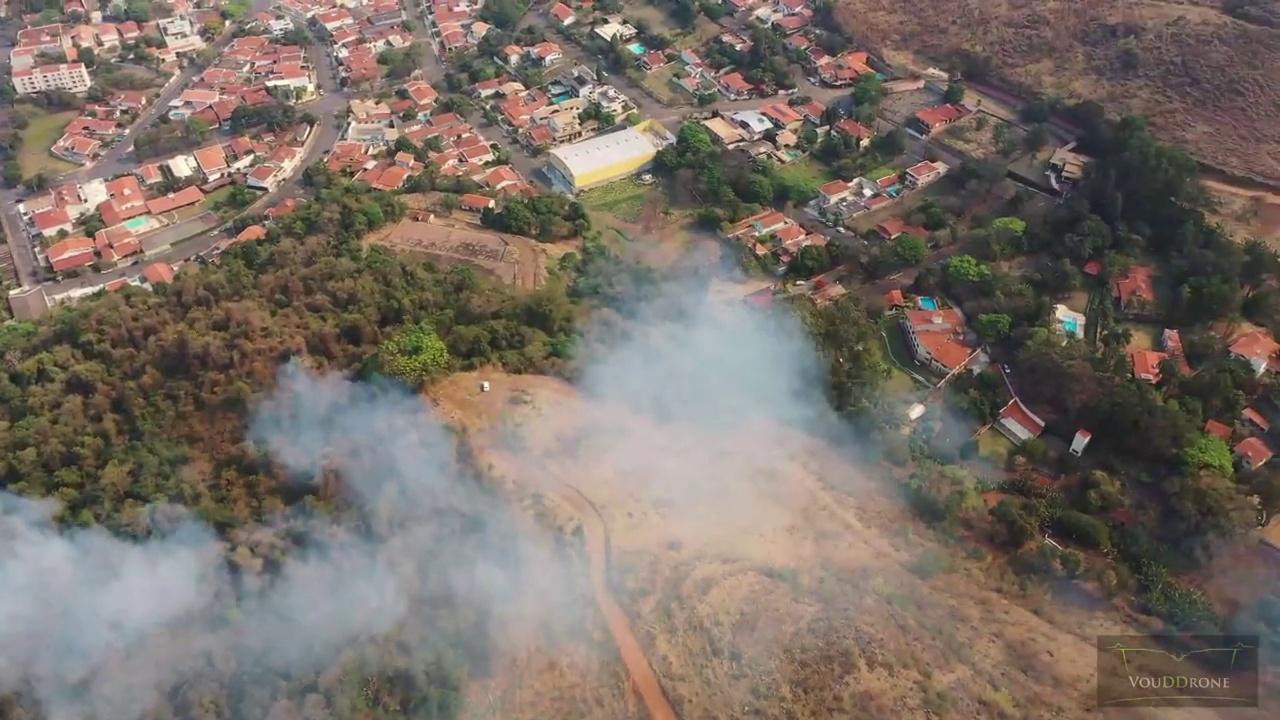smoke: (0, 550, 220, 678), (638, 296, 770, 432)
